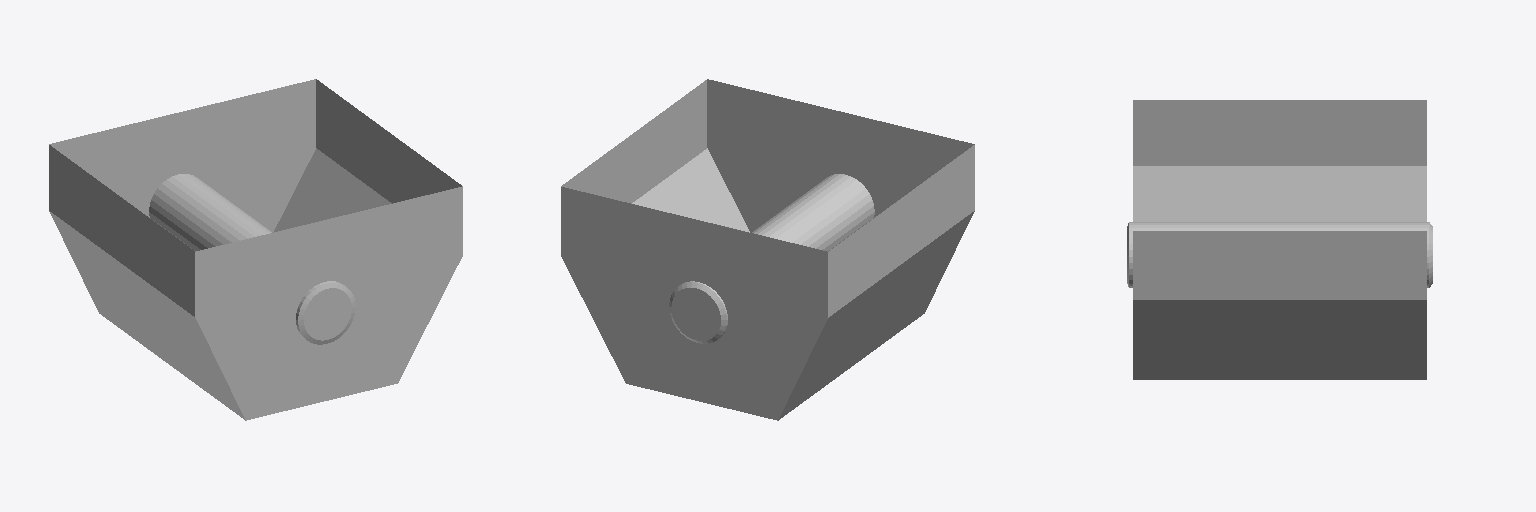
The model's file is Camera Tilt.obj.
3 views of the same model, side by side, from view 1: azimuth 30°, elevation 25°; view 2: azimuth 150°, elevation 25°; view 3: azimuth 270°, elevation 25° (orthographic).
Visible parts, largest first — view 1: Rotating_bit_Cube.003, bolt_Cylinder; view 2: Rotating_bit_Cube.003, bolt_Cylinder; view 3: Rotating_bit_Cube.003, bolt_Cylinder.
Boxes of the visible parts, <box> form: Rotating_bit_Cube.003: <box>49,79,462,420</box>; bolt_Cylinder: <box>149,174,355,344</box>; Rotating_bit_Cube.003: <box>561,79,974,420</box>; bolt_Cylinder: <box>669,174,874,343</box>; Rotating_bit_Cube.003: <box>1133,100,1426,379</box>; bolt_Cylinder: <box>1127,222,1432,287</box>.
Bounding box in the file's own units: 0.2316 × 0.15 × 0.2288.